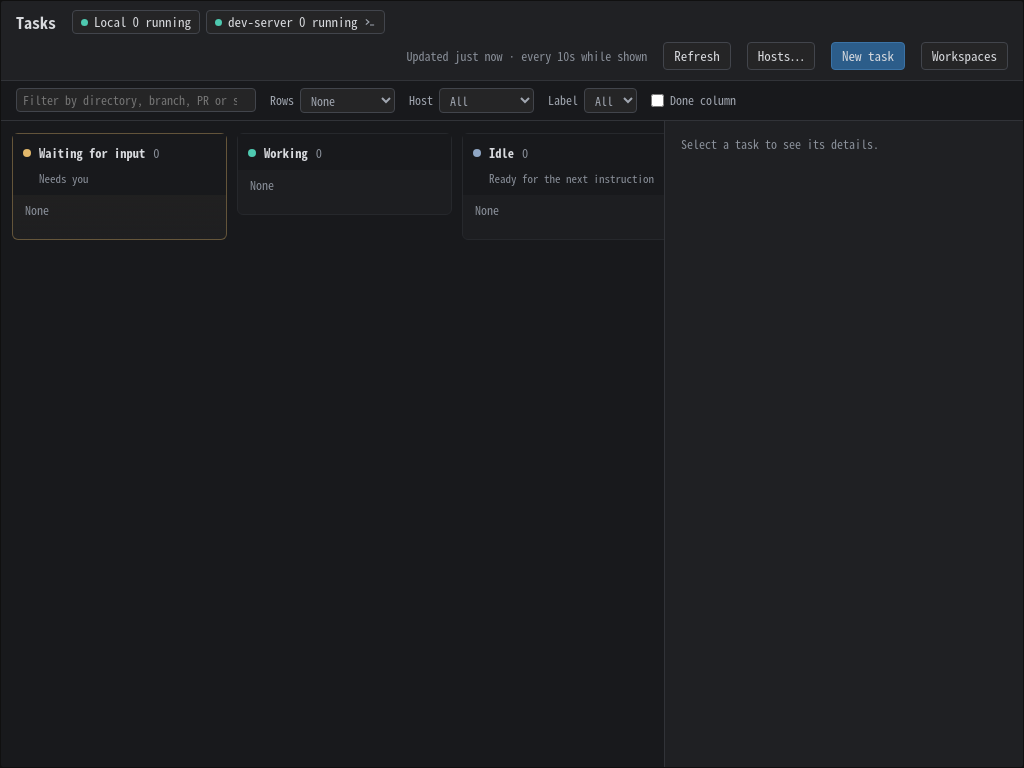
Test: TaskDashboard tool-list wiring › keeps the absent-tool presentation for host dev-server
Click the button with aria-label "Open a terminal on dev-server" at (295, 22), box [206,10,384,34]
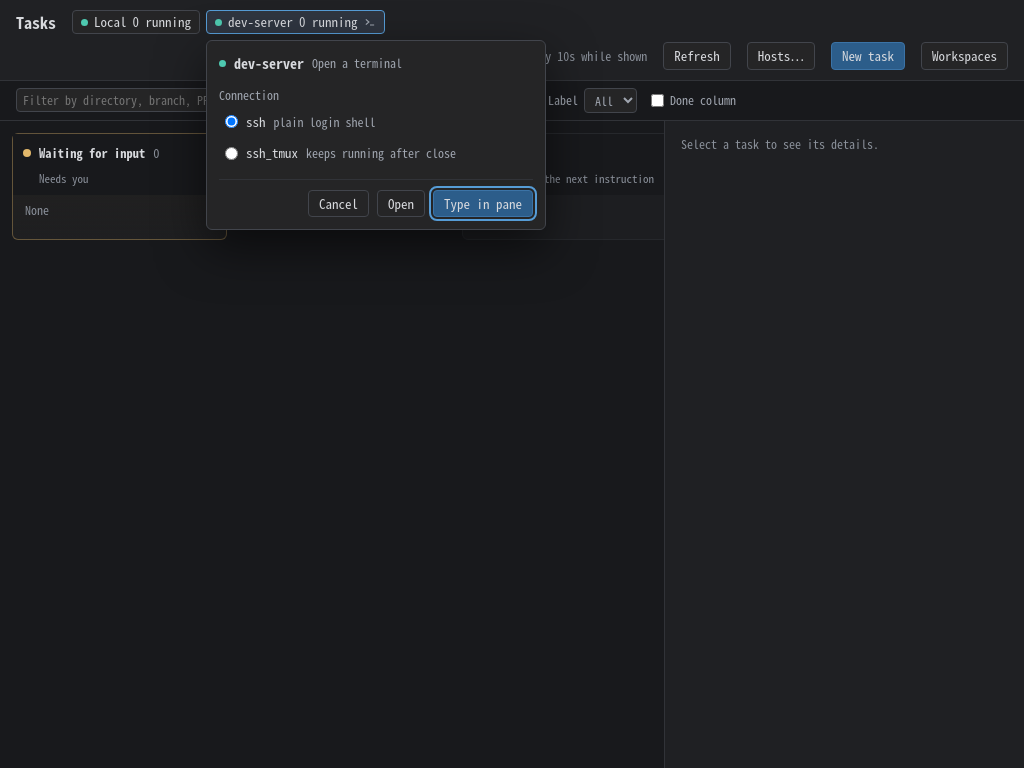
Expected: the button with aria-label "Type in pane: dev-server" is shown, [433,190,533,217]
